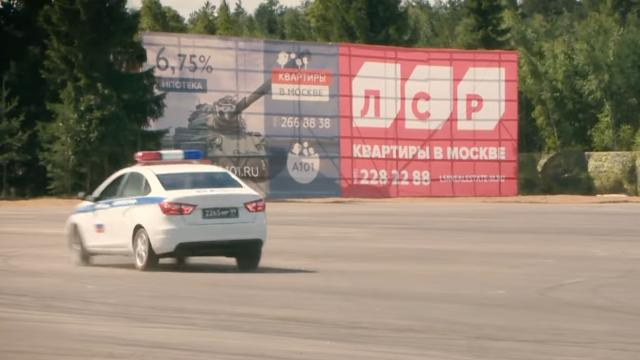police car: (62, 146, 271, 277)
